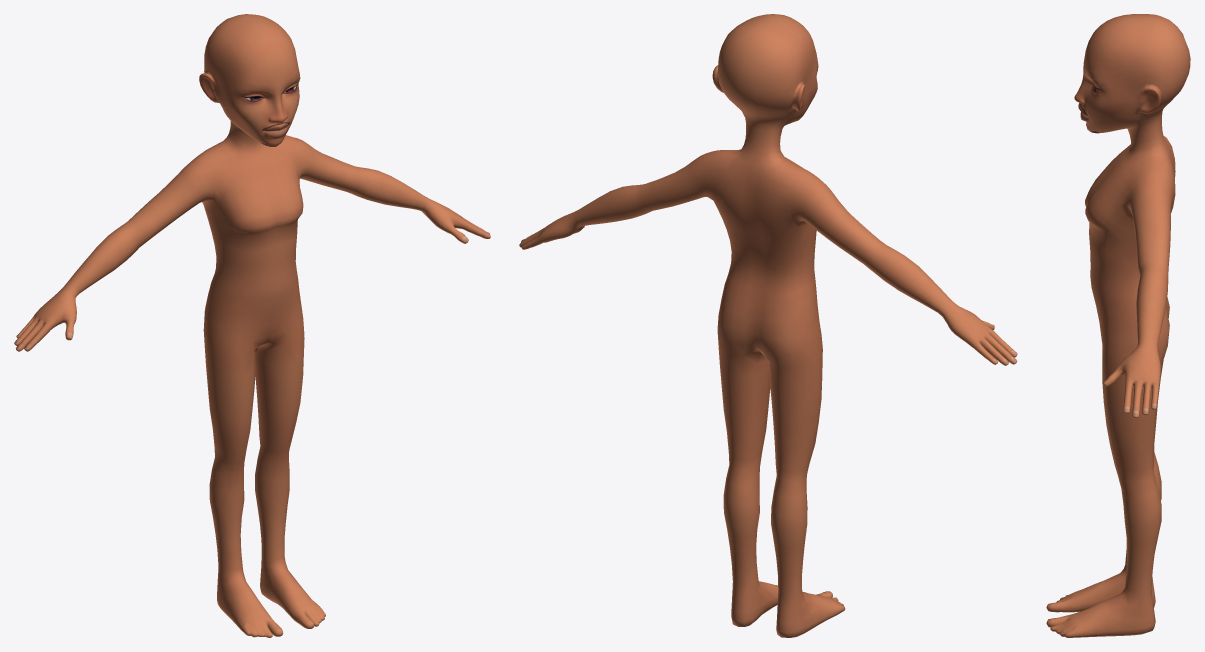
The model's file is frame_0065.glb.
The picture shows the model from 3 angles, left to right: view 1: azimuth 30°, elevation 25°; view 2: azimuth 150°, elevation 25°; view 3: azimuth 270°, elevation 25°; orthographic projection. The views are drawn at different scales.
Visible parts, largest first — view 1: frame_0065_head_geo; view 2: frame_0065_head_geo; view 3: frame_0065_head_geo.
Part boxes in pixels (x1=…): frame_0065_head_geo: x1=14, y1=14, x2=490, y2=637; frame_0065_head_geo: x1=519, y1=14, x2=1017, y2=637; frame_0065_head_geo: x1=1046, y1=14, x2=1190, y2=637.
Bounding box in the file's own units: 1.28 × 1.5 × 0.3253.
Materials: 3 (3 with a texture image).
